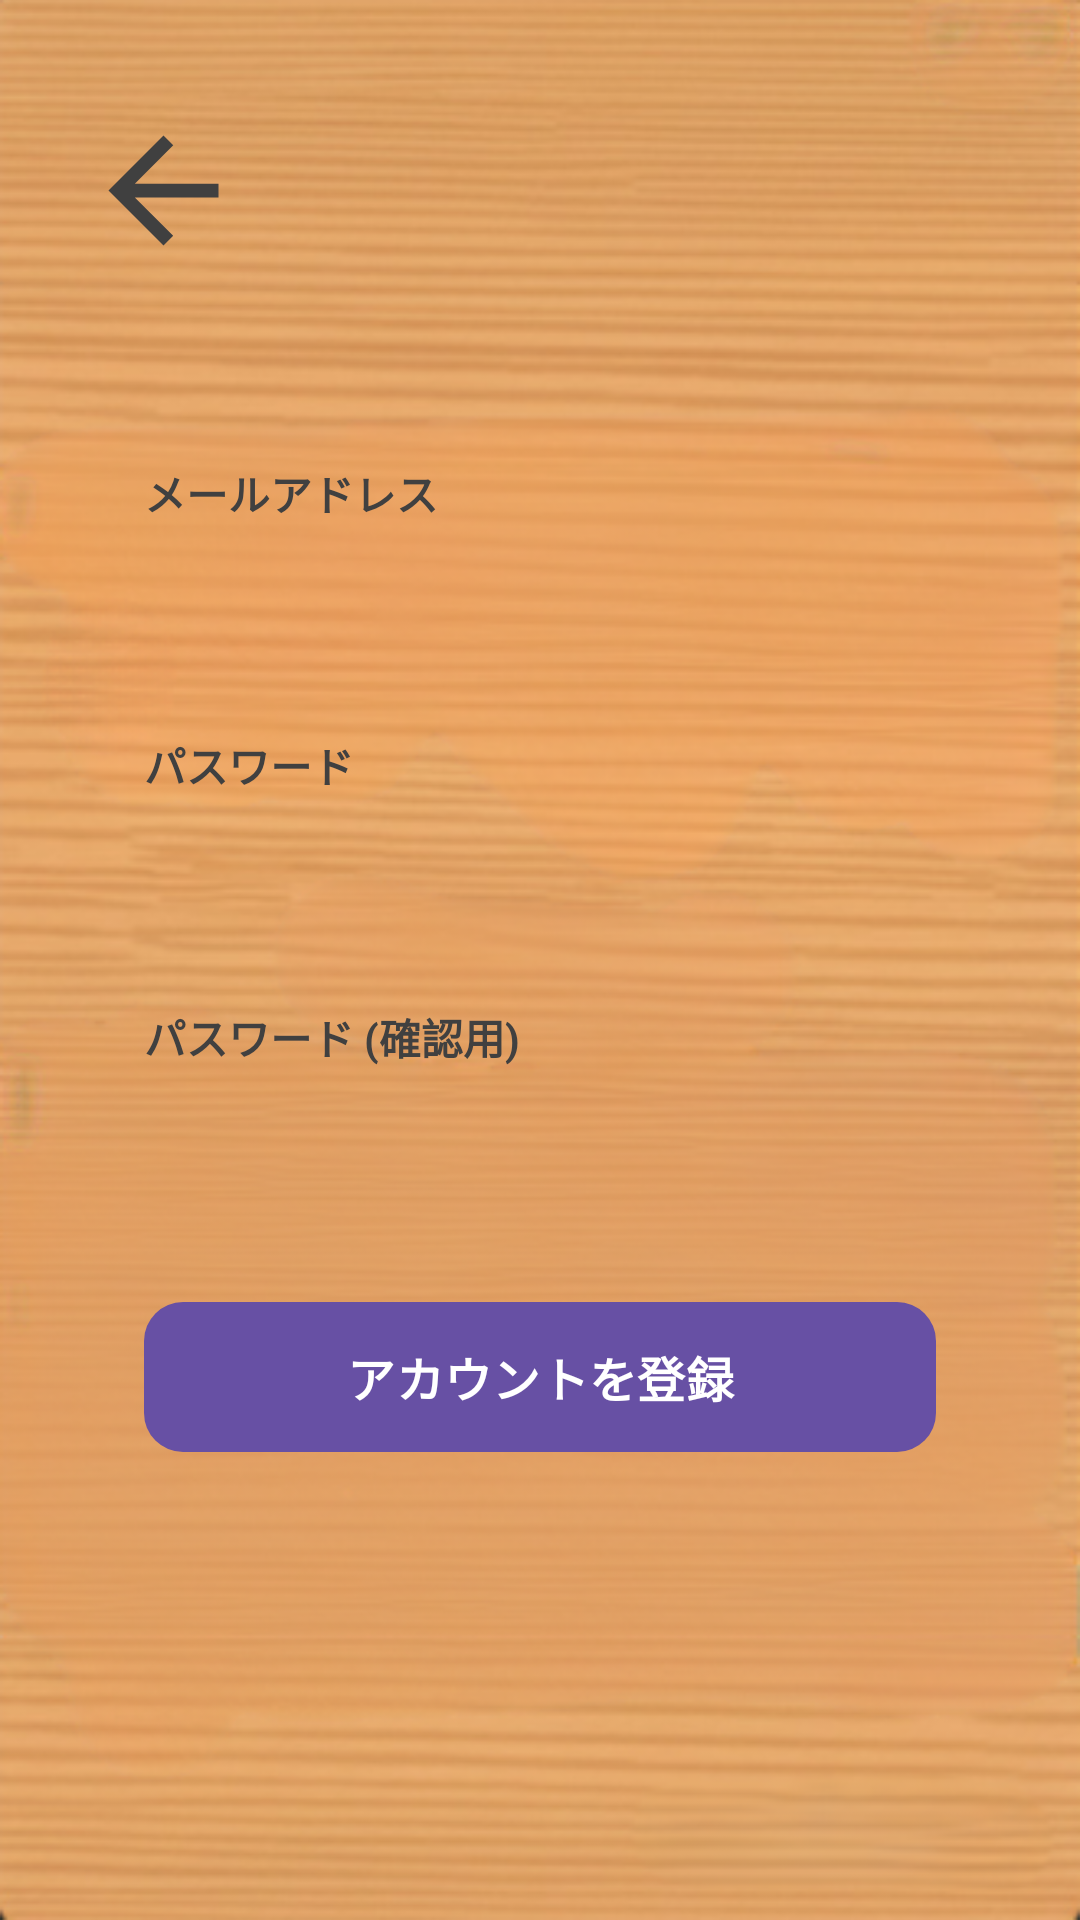

Where icons sit on this 1080px x 1920px app screen, as (x1, y1, x2, y2):
戻る: (108, 135, 219, 246)
